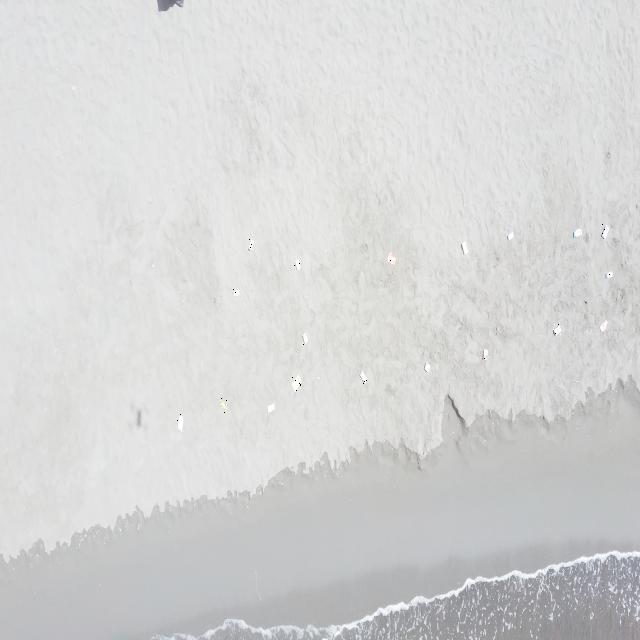Garbage: (156, 0, 181, 11), (176, 413, 183, 431), (292, 375, 300, 390), (219, 396, 226, 412), (600, 224, 608, 238), (360, 369, 367, 383), (460, 240, 467, 253), (572, 227, 582, 236), (387, 252, 395, 263), (600, 320, 607, 331), (301, 332, 307, 344), (552, 324, 560, 333), (267, 403, 275, 412), (293, 260, 300, 270), (136, 409, 140, 426), (247, 236, 252, 249), (232, 287, 239, 296), (424, 362, 430, 372), (483, 347, 487, 359), (507, 231, 512, 240), (607, 271, 612, 278)
